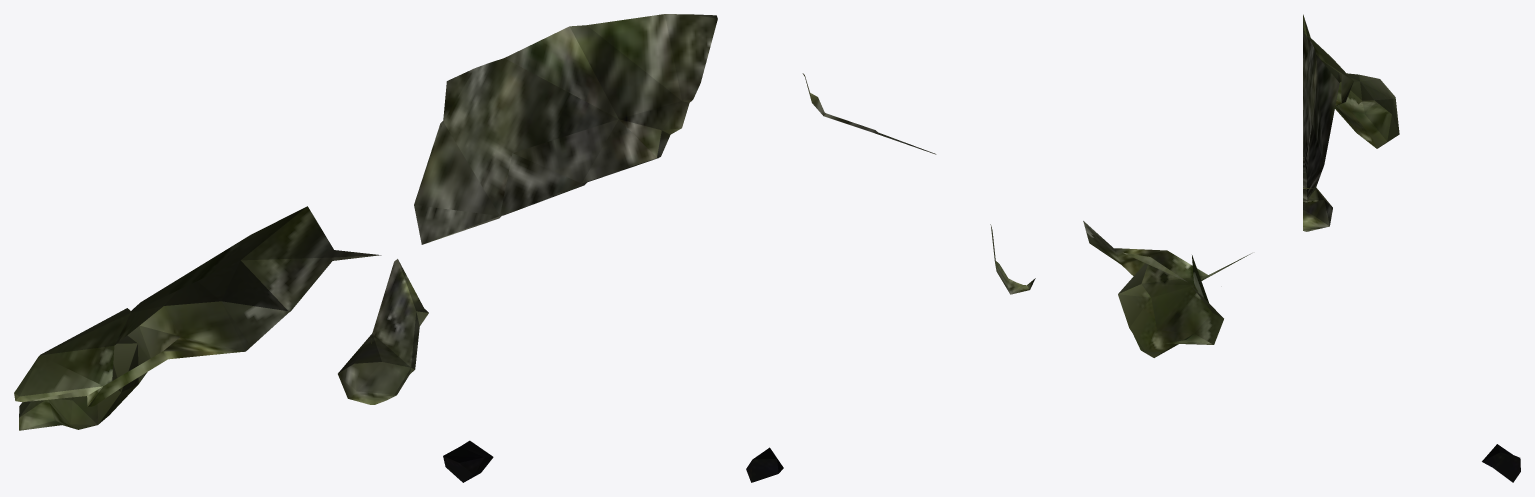
3 views of the same model, side by side, from view 1: azimuth 30°, elevation 25°; view 2: azimuth 150°, elevation 25°; view 3: azimuth 270°, elevation 25° (orthographic). The views are drawn at different scales.
Size of the model in its own units: 2.6 by 1.92 by 0.9703.
1 material, 1 textured.
